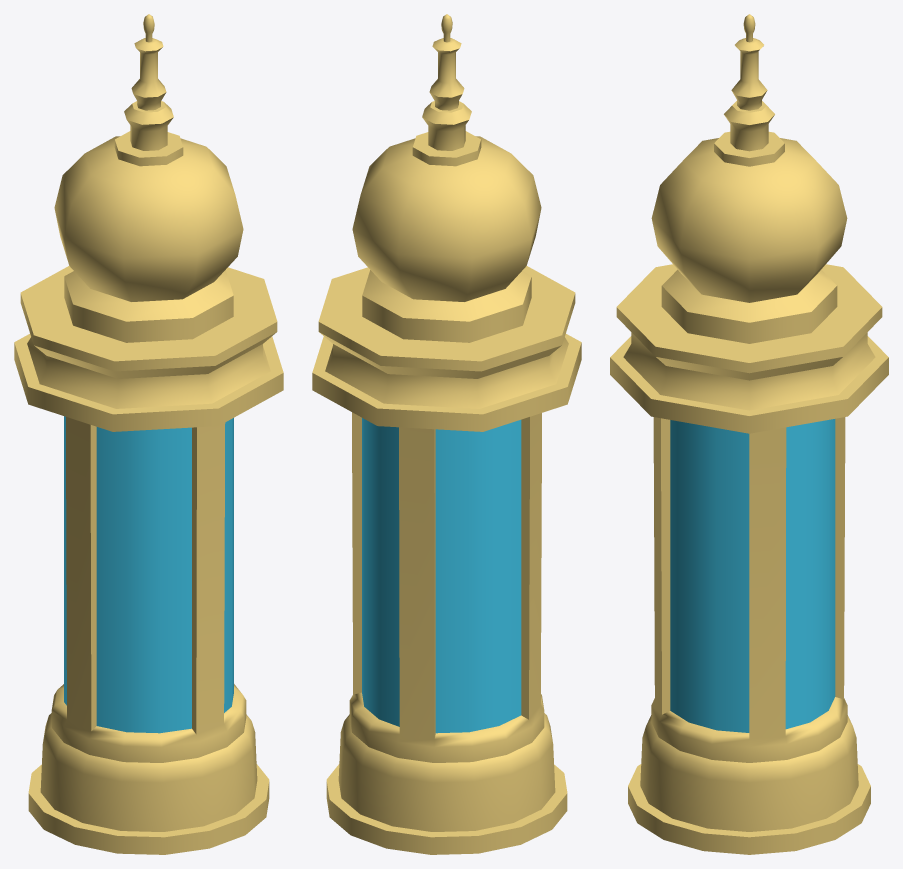
Rendered from Morris Column (2).fbx.
The picture shows the model from 3 angles, left to right: view 1: azimuth 30°, elevation 25°; view 2: azimuth 150°, elevation 25°; view 3: azimuth 270°, elevation 25°; orthographic projection.
Parts seen in each view (by area): view 1: Morris_Column 2; view 2: Morris_Column 2; view 3: Morris_Column 2.
Boxes of the visible parts, x1,y1,x2,y2 form: Morris_Column 2: (14, 14, 283, 854); Morris_Column 2: (312, 14, 581, 854); Morris_Column 2: (610, 14, 888, 854).
Bounding box in the file's own units: 138 × 430 × 138.
